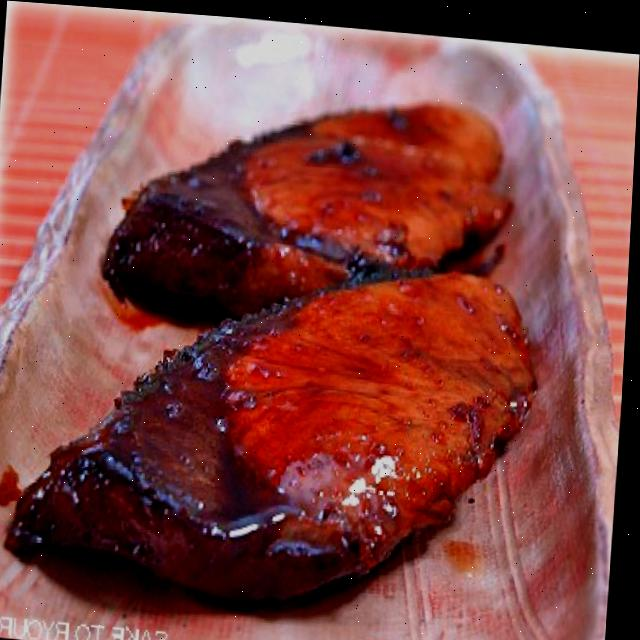熟制海鲜: (14, 213, 553, 639)
